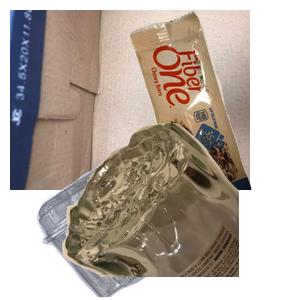cardboard: (10, 10, 250, 190)
glass: (60, 120, 300, 300)
plastic: (34, 130, 246, 300)
trash: (127, 10, 300, 190)
